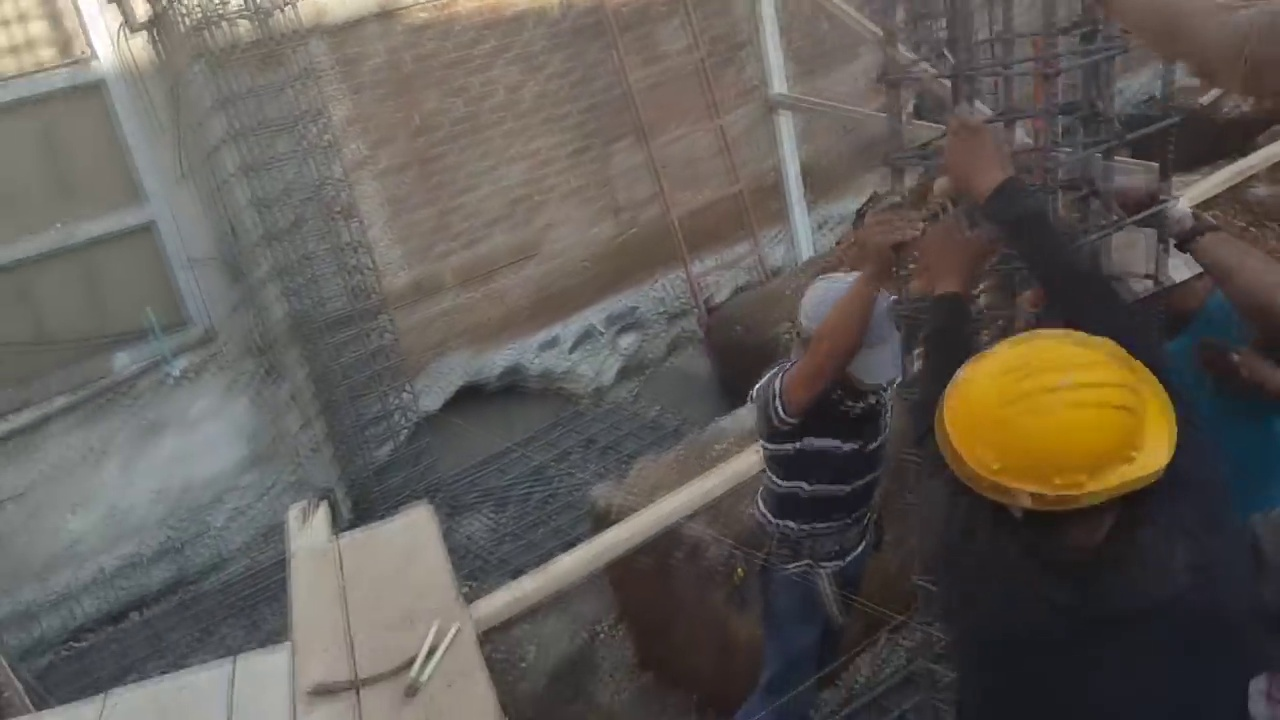helmet: (947, 325, 1203, 513)
helmet-off: (794, 261, 906, 395)
helmet-on: (939, 321, 1185, 572)
person: (907, 106, 1254, 676), (721, 191, 922, 716)
